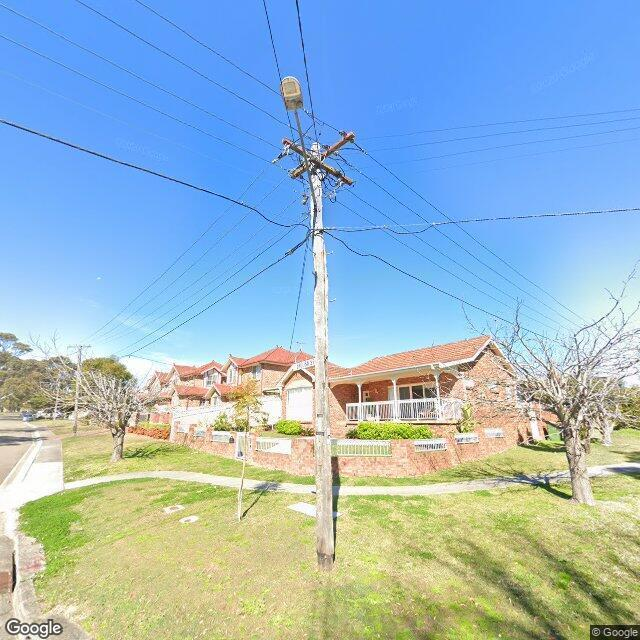crossarm: (282, 138, 352, 186), (288, 131, 357, 179), (66, 343, 92, 349)
streetlight: (278, 75, 318, 210)
timber-pole: (308, 140, 336, 572), (72, 344, 82, 434)
